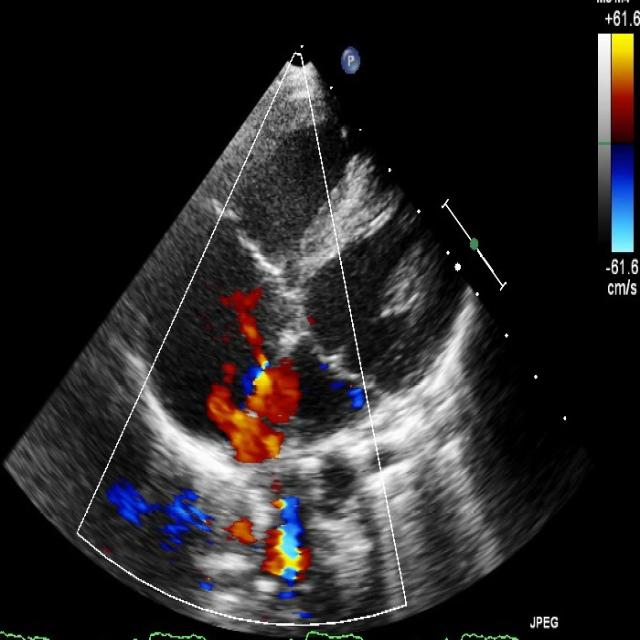ASDType2: (216, 326, 299, 460)
